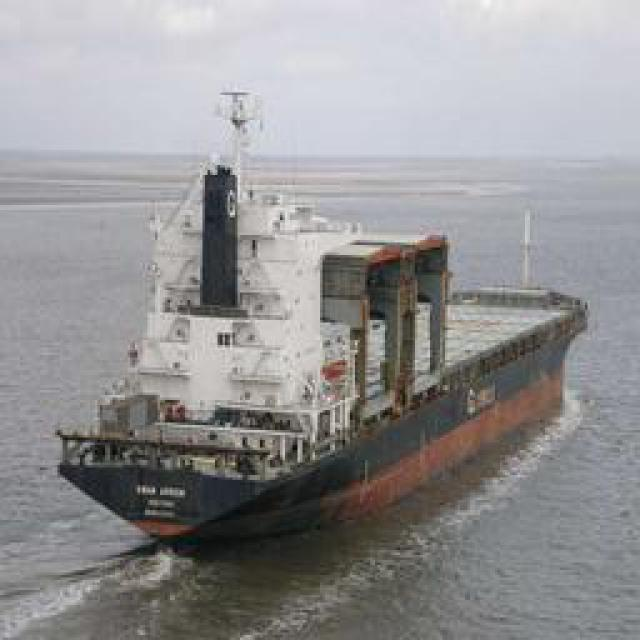Ship: (53, 148, 588, 556)
